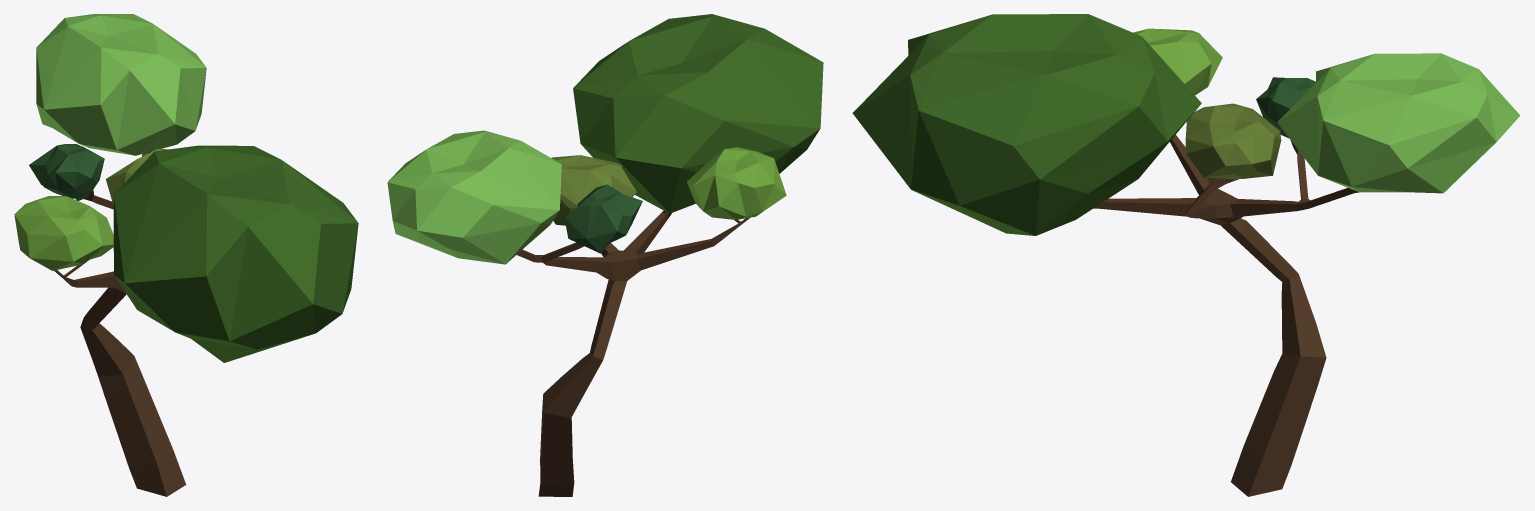
Rendered from lowpoly_tree_round.obj.
The picture shows the model from 3 angles, left to right: view 1: azimuth 30°, elevation 25°; view 2: azimuth 150°, elevation 25°; view 3: azimuth 270°, elevation 25°; orthographic projection. The views are drawn at different scales.
Parts seen in each view (by area): view 1: Icosphere.002, Icosphere, Cube, Icosphere.004_Icosphere.005, Icosphere.001, Icosphere.003_Icosphere.004; view 2: Icosphere.002, Icosphere, Cube, Icosphere.004_Icosphere.005, Icosphere.001, Icosphere.003_Icosphere.004; view 3: Icosphere.002, Icosphere, Cube, Icosphere.003_Icosphere.004, Icosphere.004_Icosphere.005, Icosphere.001.
Part boxes in pixels (x1,y1,x2,y2): Icosphere.002: (113, 145, 358, 362); Icosphere: (36, 14, 206, 155); Cube: (54, 151, 186, 496); Icosphere.004_Icosphere.005: (14, 196, 113, 270); Icosphere.001: (29, 144, 104, 200); Icosphere.003_Icosphere.004: (106, 149, 168, 205); Icosphere.002: (573, 14, 823, 213); Icosphere: (387, 130, 561, 264); Cube: (517, 210, 749, 496); Icosphere.004_Icosphere.005: (687, 147, 786, 219); Icosphere.001: (564, 184, 642, 253); Icosphere.003_Icosphere.004: (551, 155, 636, 225); Icosphere.002: (852, 14, 1201, 235); Icosphere: (1277, 53, 1520, 193); Cube: (1093, 134, 1358, 496); Icosphere.003_Icosphere.004: (1185, 103, 1281, 179); Icosphere.004_Icosphere.005: (1133, 28, 1222, 95); Icosphere.001: (1256, 77, 1315, 138).
Size of the model in its own units: 4.66 by 6.21 by 8.72.
